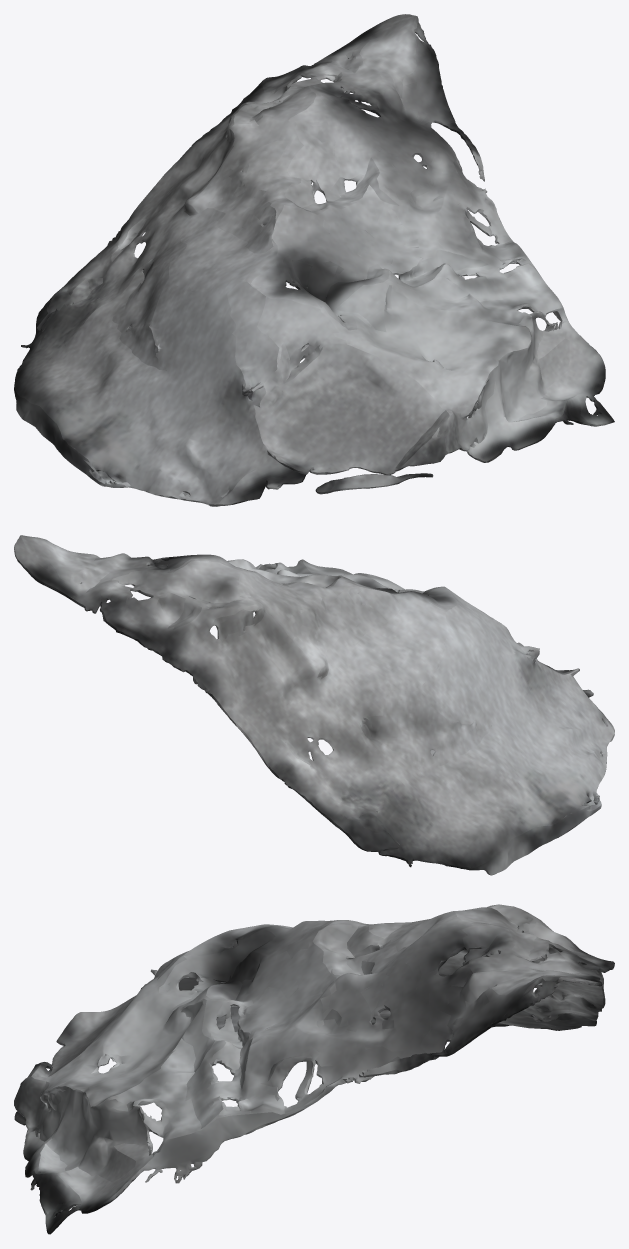
3 views of the same model, one above another, from view 1: azimuth 30°, elevation 25°; view 2: azimuth 150°, elevation 25°; view 3: azimuth 270°, elevation 25° (orthographic). The views are drawn at different scales.
Parts seen in each view (by area): view 1: world; view 2: world; view 3: world.
Boxes of the visible parts, box(x1,y1,x2,y2) form: world: box(14, 14, 614, 506); world: box(14, 535, 614, 875); world: box(14, 904, 614, 1234).
Bounding box in the file's own units: 0.12 × 0.0667 × 0.1203.
Materials: 1 (1 with a texture image).
